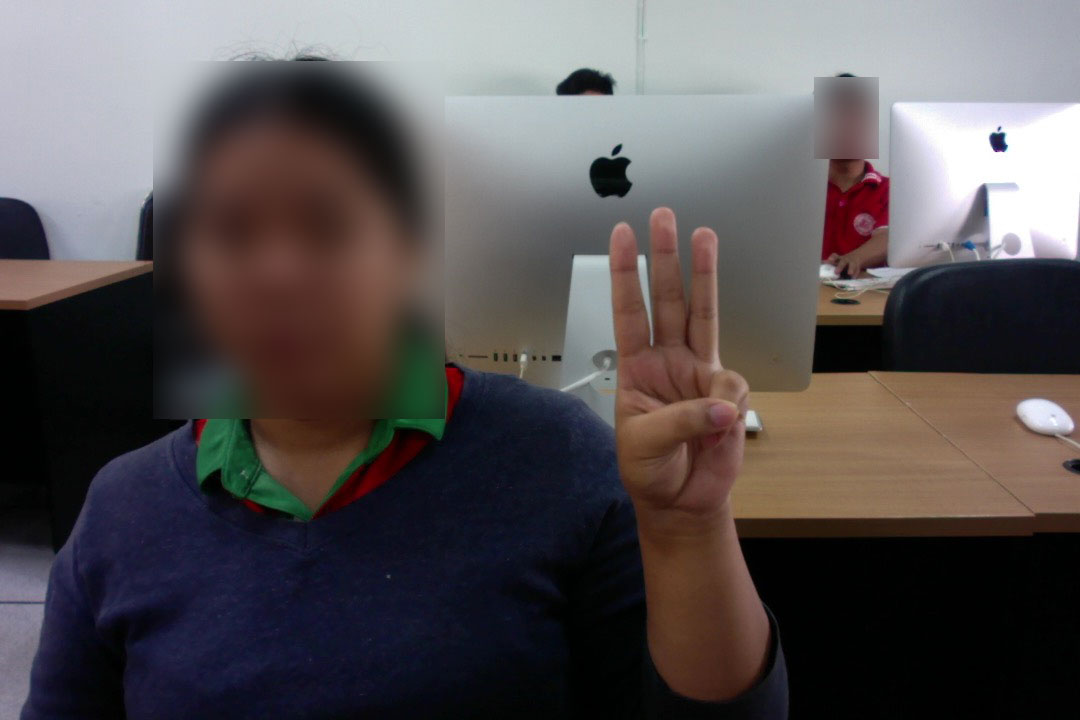wor: (599, 203, 754, 516)
